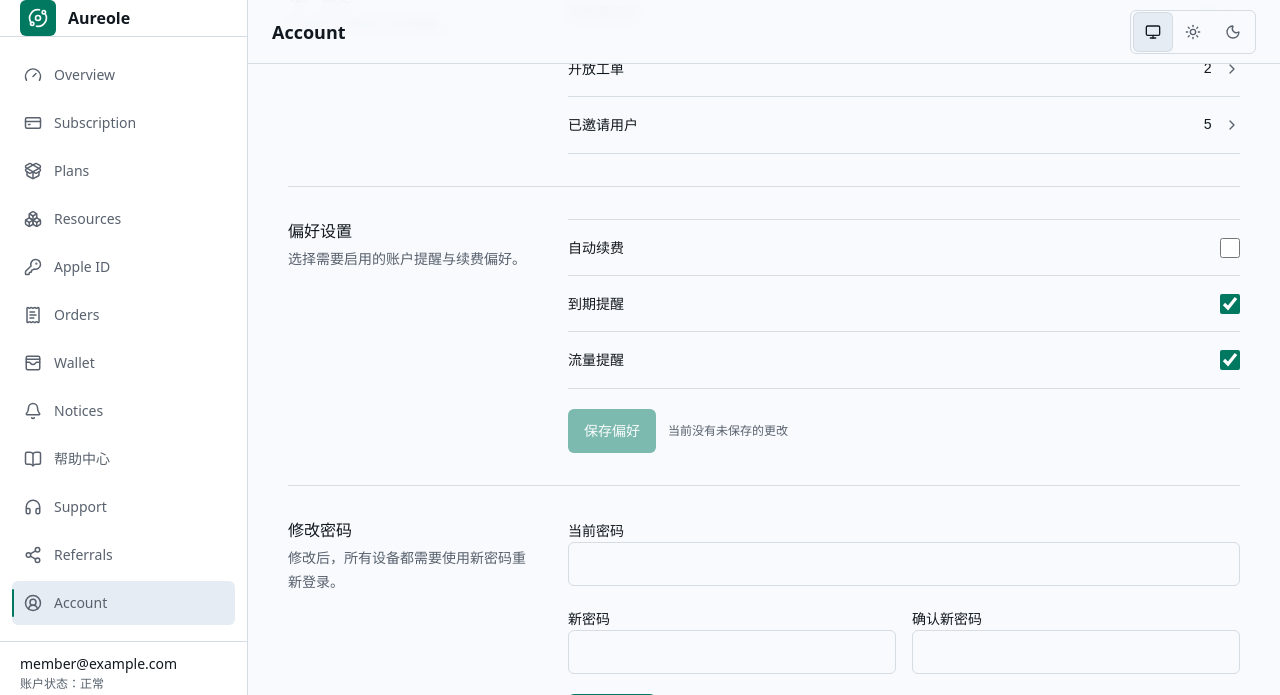
Test case: Account self-service › sends only changed preferences and refetches authoritative values
(page scrolled)
Click the checkbox labelled "流量提醒" at coordinates (1230, 360), box [1220, 350, 1240, 370]
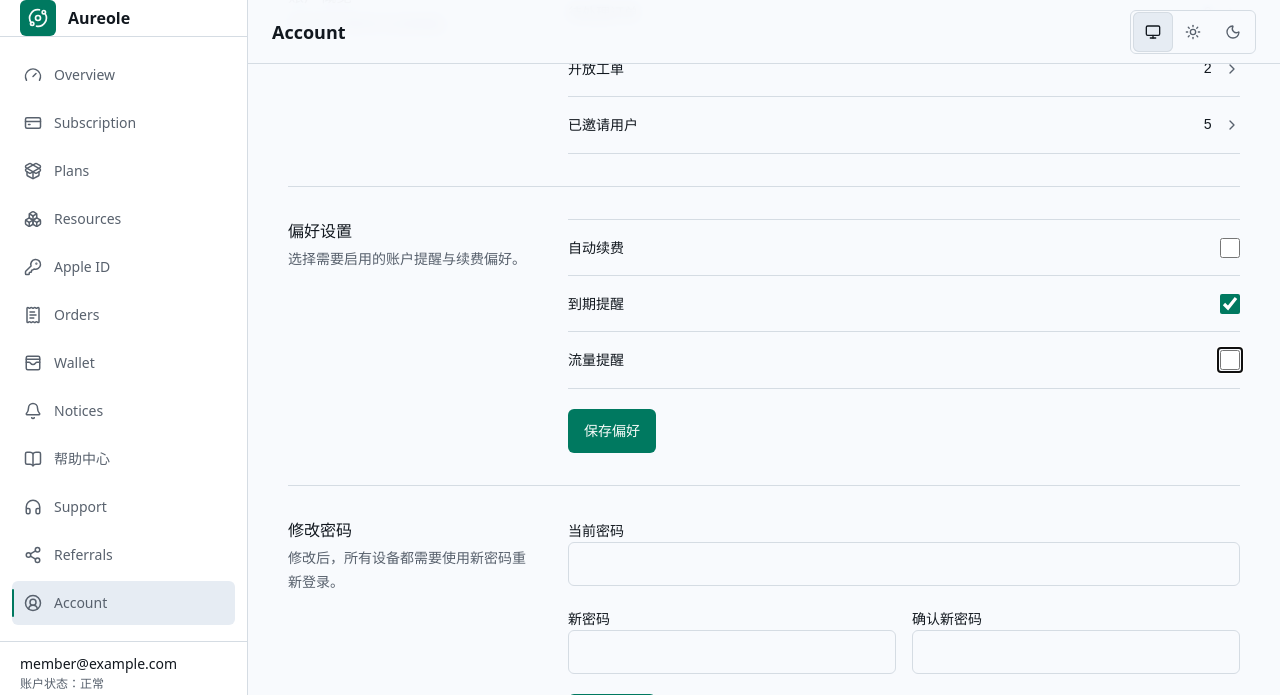
Click the button "保存偏好" at coordinates (612, 431), box [568, 409, 656, 453]
(page scrolled)
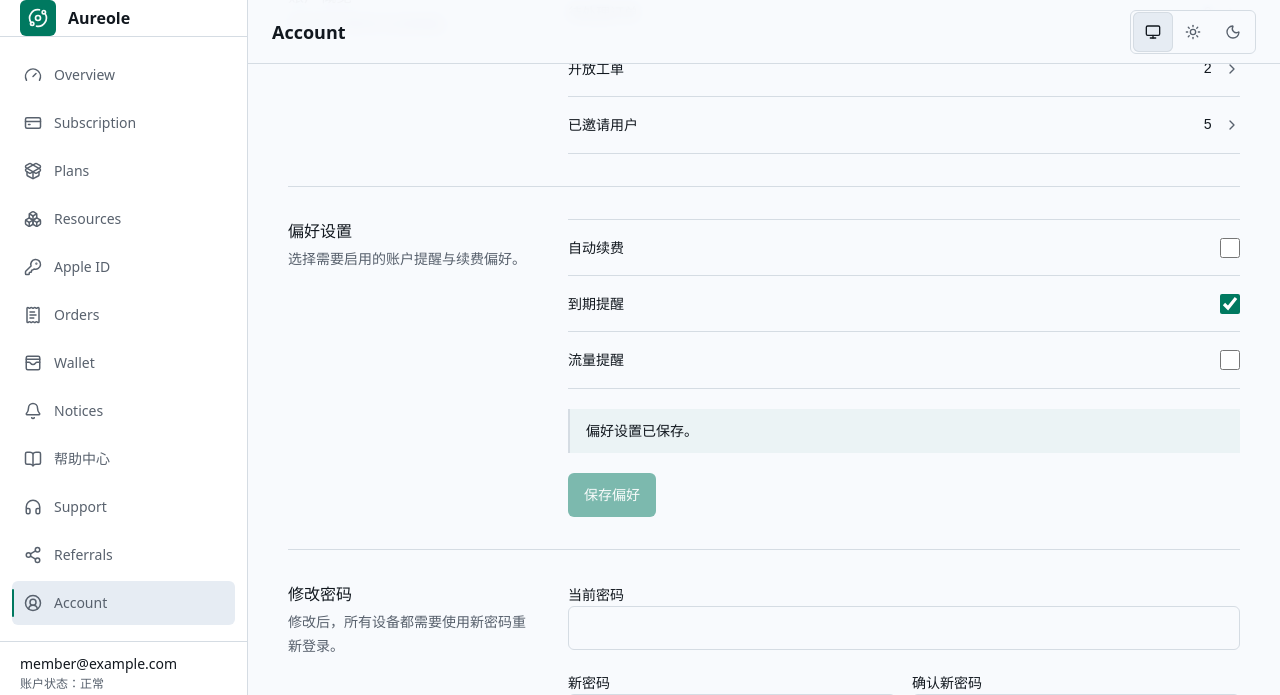
expect the checkbox labelled "流量提醒" is not checked: met, box [1220, 350, 1240, 370]
expect the text "偏好设置已保存。" is shown: met, box [586, 421, 698, 440]
